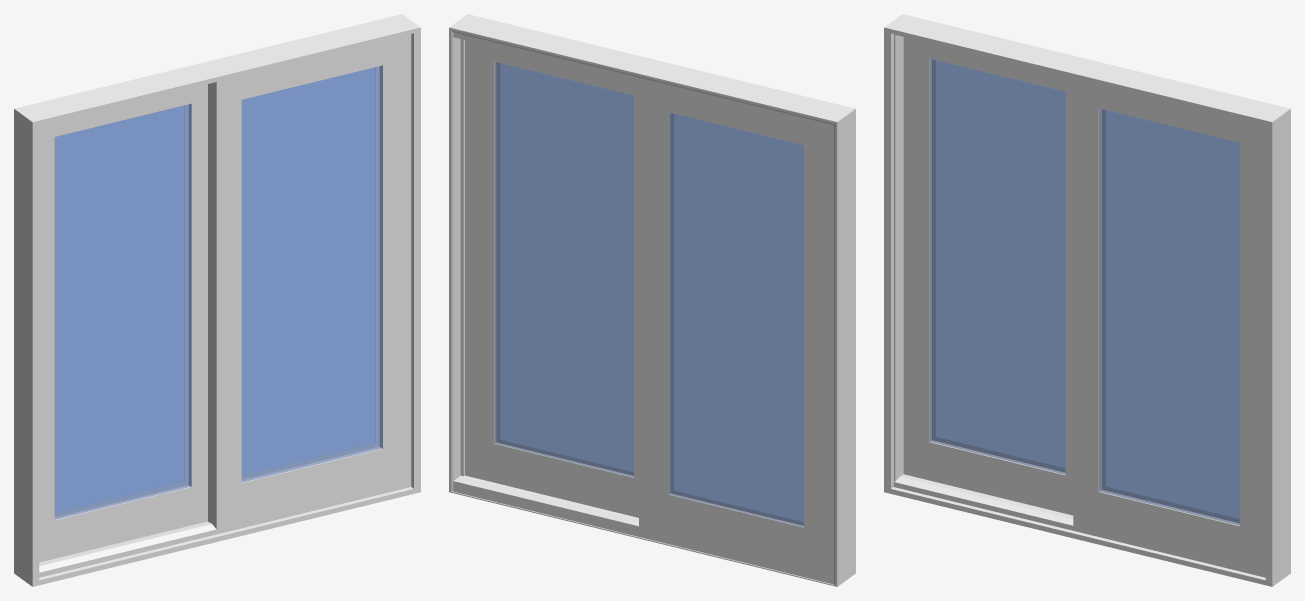
Rendered from window.fbx.
3 views of the same model, side by side, from view 1: azimuth 30°, elevation 25°; view 2: azimuth 150°, elevation 25°; view 3: azimuth 330°, elevation 25° (orthographic).
Visible parts, largest first — view 1: Designer Series French Sliding Door_001; view 2: Designer Series French Sliding Door_001; view 3: Designer Series French Sliding Door_001.
Boxes of the visible parts, x1,y1,x2,y2 form: Designer Series French Sliding Door_001: (14, 14, 420, 586); Designer Series French Sliding Door_001: (449, 14, 855, 586); Designer Series French Sliding Door_001: (884, 14, 1290, 586).
Bounding box in the file's own units: 76.06 × 87.01 × 6.26.
